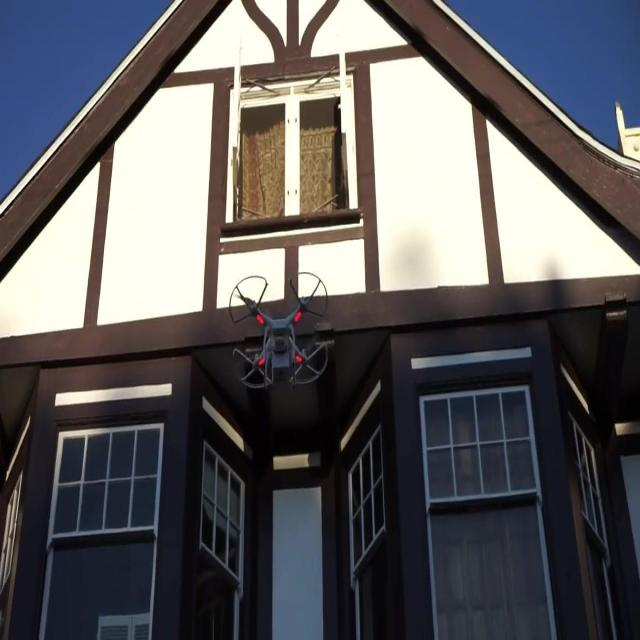drone: (228, 271, 332, 390)
